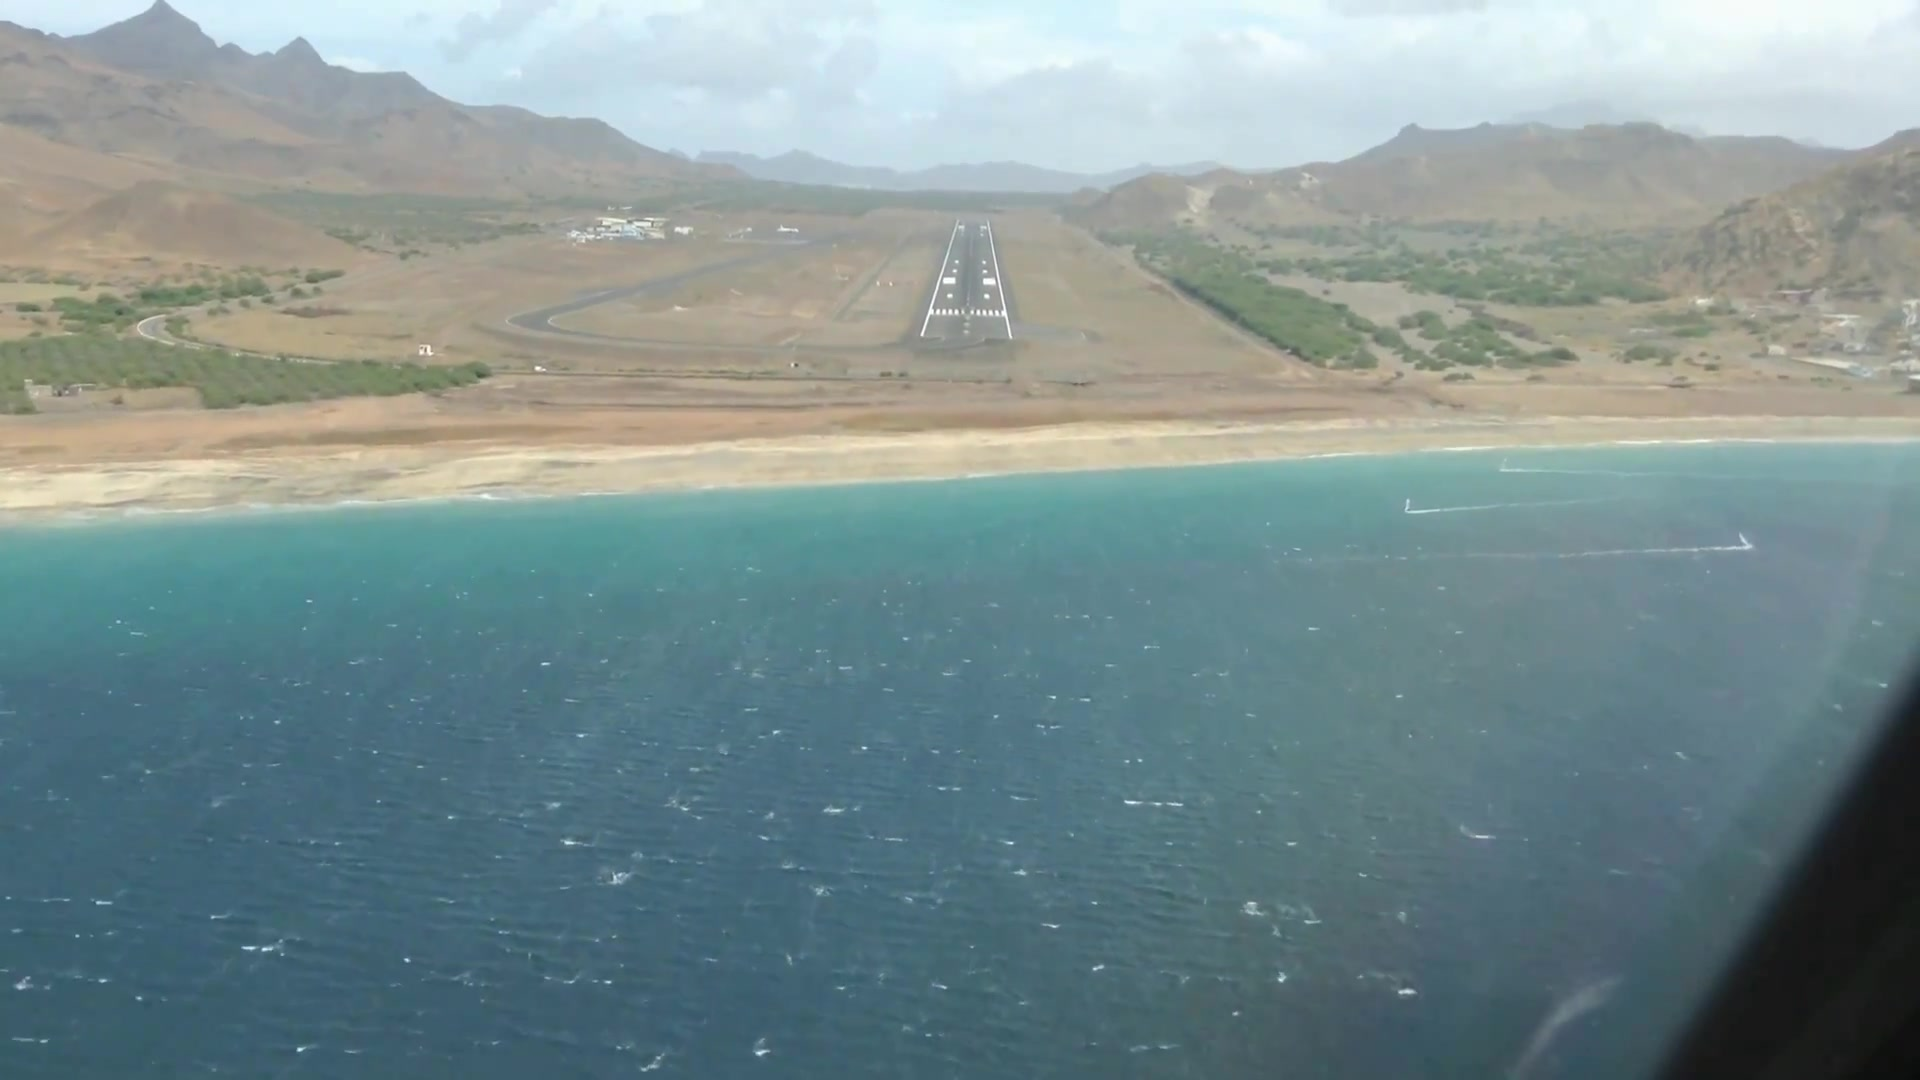entrance: (922, 309, 1007, 316)
runway: (920, 220, 1011, 339)
